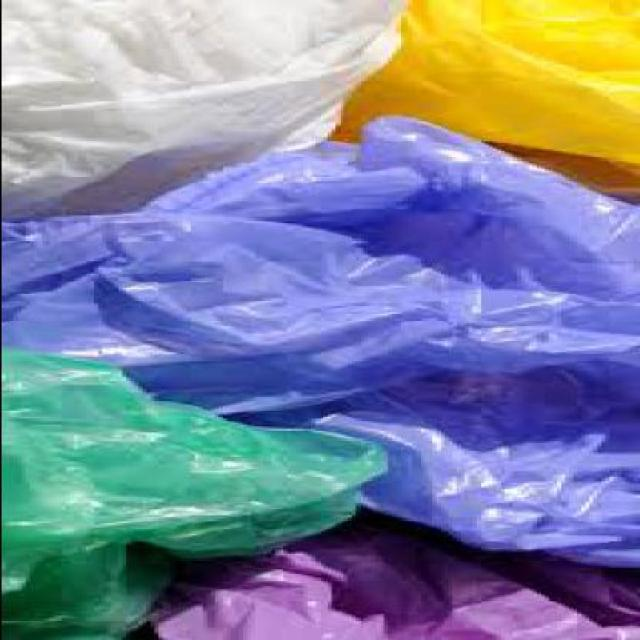plastic: (3, 112, 639, 570), (4, 351, 390, 638), (4, 2, 410, 220), (333, 0, 638, 195), (149, 521, 638, 640)
